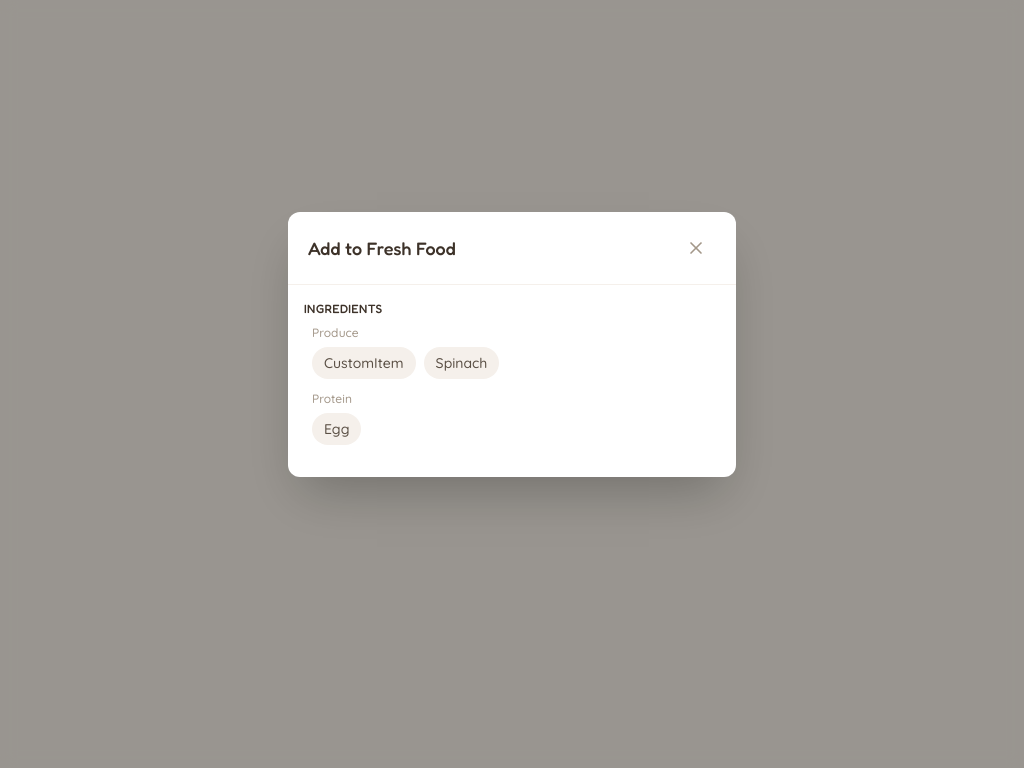
Scenario: AddItemModal - defaultExpiryDays › sets expiry date based on defaultExpiryDays when item is selected
# Click on Egg (21 days expiry)
Click the button "Egg". click: (337, 428)
box: [312,412,362,444]
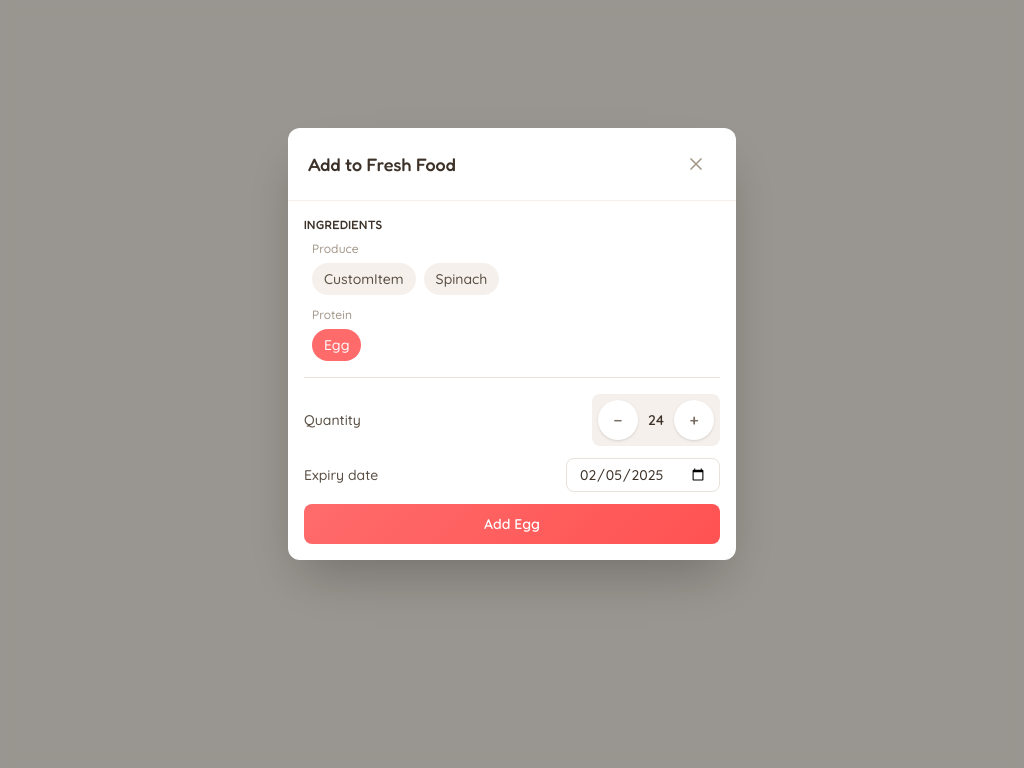
Result: the date field showing "2025-02-05" is shown at [566,458,720,492]
